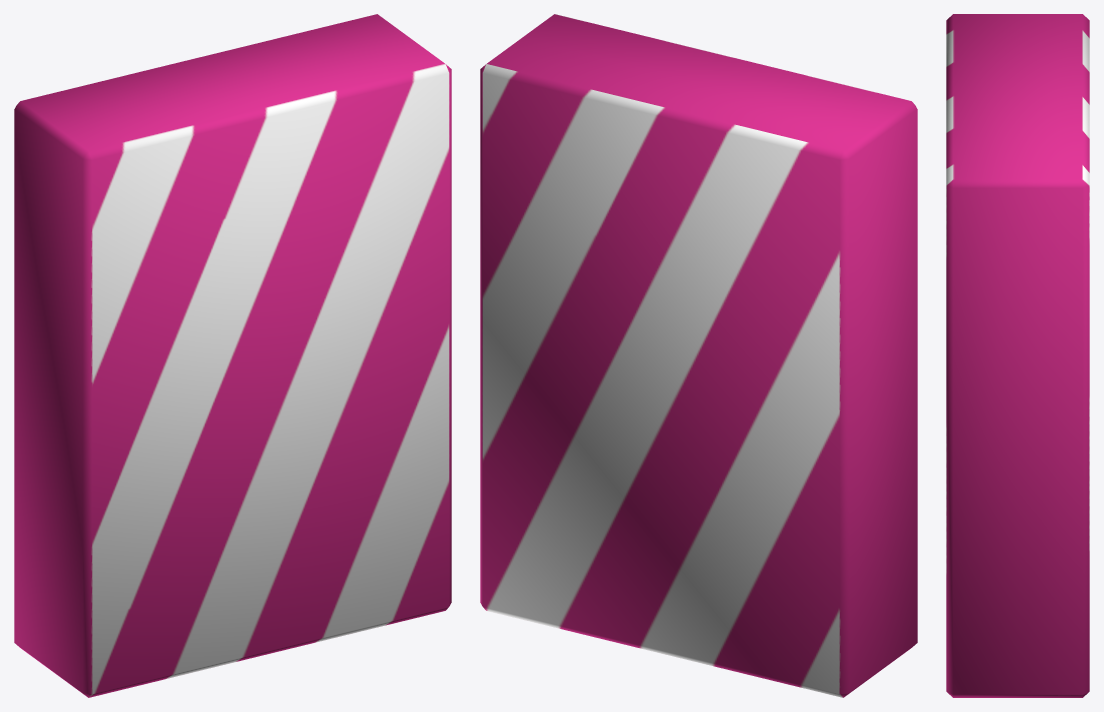
The model's file is door.fbx.
3 views of the same model, side by side, from view 1: azimuth 30°, elevation 25°; view 2: azimuth 150°, elevation 25°; view 3: azimuth 270°, elevation 25° (orthographic). The views are drawn at different scales.
Parts seen in each view (by area): view 1: Door_Block_lp; view 2: Door_Block_lp; view 3: Door_Block_lp.
Boxes of the visible parts, x1,y1,x2,y2 form: Door_Block_lp: (14,14,451,697); Door_Block_lp: (480,14,917,697); Door_Block_lp: (946,14,1089,697).
Bounding box in the file's own units: 1.46 × 2.08 × 0.5188.
Materials: 1 (1 with a texture image).
